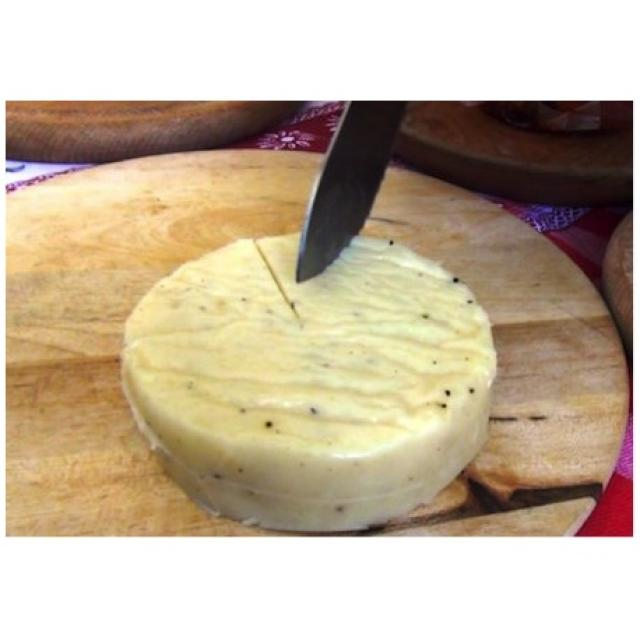Cheese: (116, 224, 500, 538)
